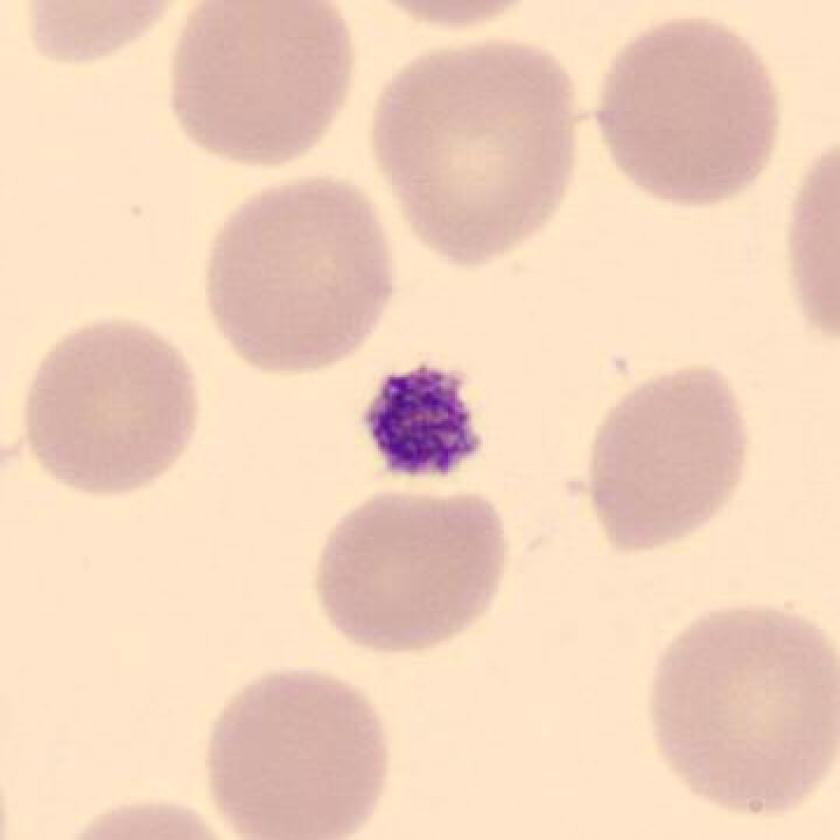platelets: (353, 357, 491, 485)
